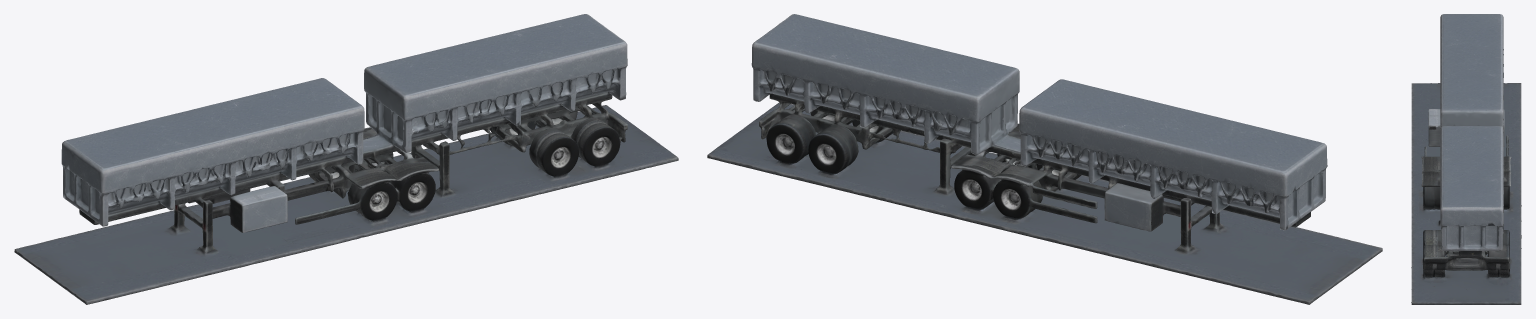
Rendered from Meshy_AI_Covered_Cargo_Trailer_0921131731_texture.fbx.
The picture shows the model from 3 angles, left to right: view 1: azimuth 30°, elevation 25°; view 2: azimuth 150°, elevation 25°; view 3: azimuth 270°, elevation 25°; orthographic projection. The views are drawn at different scales.
Parts seen in each view (by area): view 1: Mesh_0; view 2: Mesh_0; view 3: Mesh_0.
Part boxes in pixels (x1,y1,x2,y2): Mesh_0: [14, 14, 678, 304]; Mesh_0: [707, 14, 1382, 304]; Mesh_0: [1411, 14, 1521, 304].
Size of the model in its own units: 190 by 34.49 by 40.22.
1 material, 1 textured.
